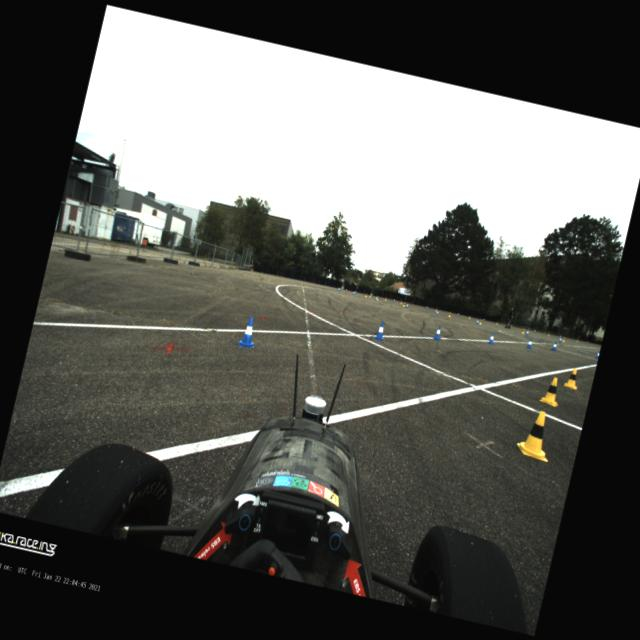blue_cone: (237, 316, 260, 350), (372, 320, 388, 341), (432, 324, 443, 340), (487, 332, 495, 344), (525, 337, 533, 349), (550, 340, 557, 350), (594, 349, 600, 358), (526, 330, 530, 336), (404, 302, 408, 308), (475, 319, 479, 324), (558, 337, 562, 342), (374, 295, 377, 300), (338, 286, 341, 290), (426, 304, 428, 308), (436, 310, 438, 314), (393, 298, 395, 302), (345, 288, 347, 292), (352, 290, 354, 294), (337, 286, 339, 290), (586, 340, 588, 344), (456, 312, 458, 315), (354, 290, 356, 293), (510, 324, 512, 327), (533, 329, 535, 332), (482, 318, 484, 320)
yellow_cone: (514, 406, 558, 462), (538, 375, 564, 407), (563, 366, 581, 389), (520, 328, 524, 334), (478, 318, 482, 324), (447, 312, 451, 317), (561, 336, 565, 341), (402, 302, 406, 306), (364, 292, 368, 296), (575, 337, 578, 342), (468, 315, 470, 319), (384, 296, 386, 300), (435, 308, 437, 312), (496, 320, 498, 324), (548, 331, 550, 335), (400, 300, 402, 304), (376, 296, 378, 300), (369, 294, 371, 297)
